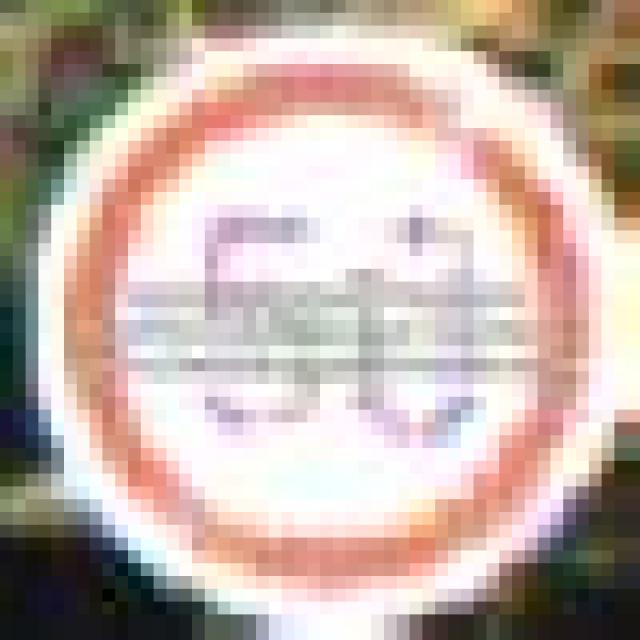SPEED_LIMIT_50: (64, 51, 576, 576)
